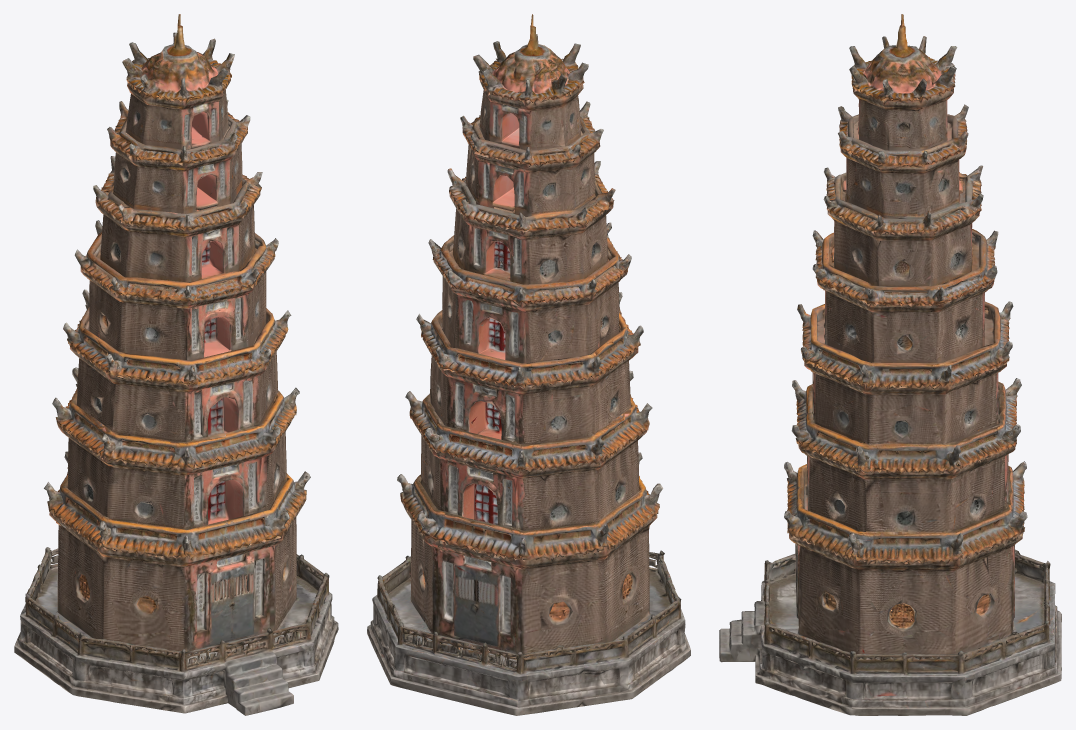
File: thap-phuoc-duyen.glb
3 views of the same model, side by side, from view 1: azimuth 30°, elevation 25°; view 2: azimuth 150°, elevation 25°; view 3: azimuth 270°, elevation 25° (orthographic).
Bounding box in the file's own units: 0.443 × 0.9997 × 0.4877.
1 material, 1 textured.
